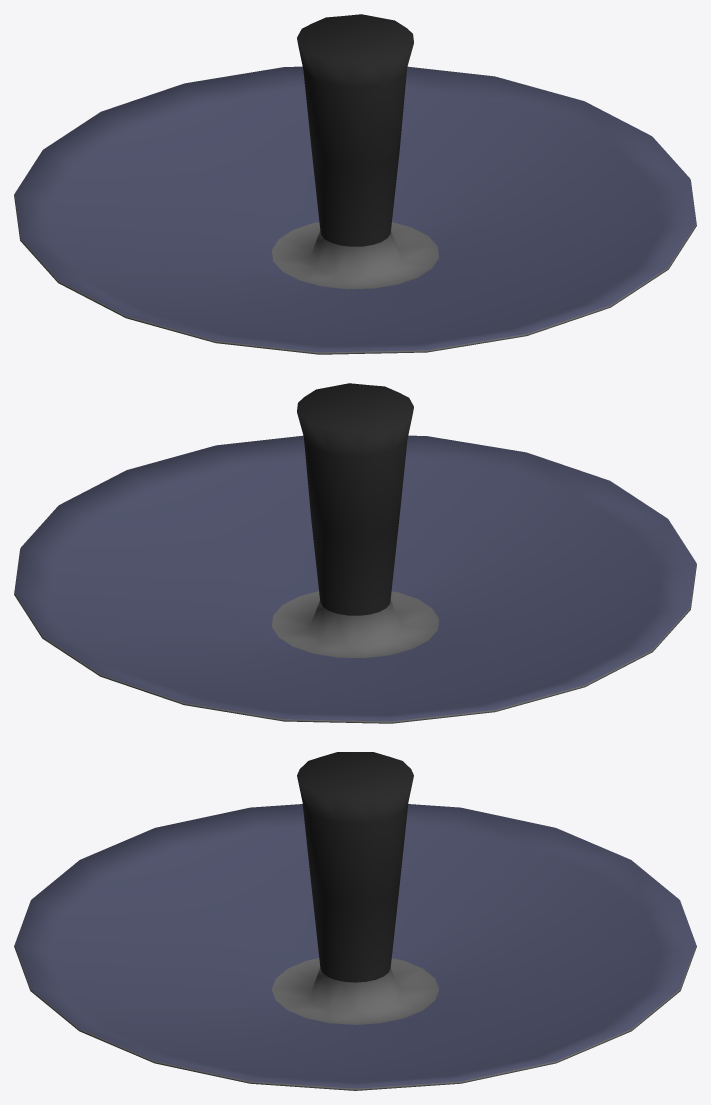
File: tdrsParabIzq.obj
The picture shows the model from 3 angles, top to bottom: view 1: azimuth 30°, elevation 25°; view 2: azimuth 150°, elevation 25°; view 3: azimuth 270°, elevation 25°; orthographic projection.
Visible parts, largest first — view 1: P2_InnerDish, P2_DishMiddle, P2_lambert2; view 2: P2_InnerDish, P2_DishMiddle, P2_lambert2; view 3: P2_InnerDish, P2_DishMiddle, P2_lambert2.
Boxes of the visible parts, x1,y1,x2,y2 form: P2_InnerDish: [14, 66, 696, 352]; P2_DishMiddle: [297, 14, 413, 246]; P2_lambert2: [14, 179, 696, 354]; P2_InnerDish: [14, 435, 696, 721]; P2_DishMiddle: [297, 383, 413, 615]; P2_lambert2: [14, 548, 696, 723]; P2_InnerDish: [14, 804, 696, 1088]; P2_DishMiddle: [297, 752, 413, 982]; P2_lambert2: [14, 945, 696, 1090].
Bounding box in the file's own units: 0.1533 × 0.0562 × 0.1531.
